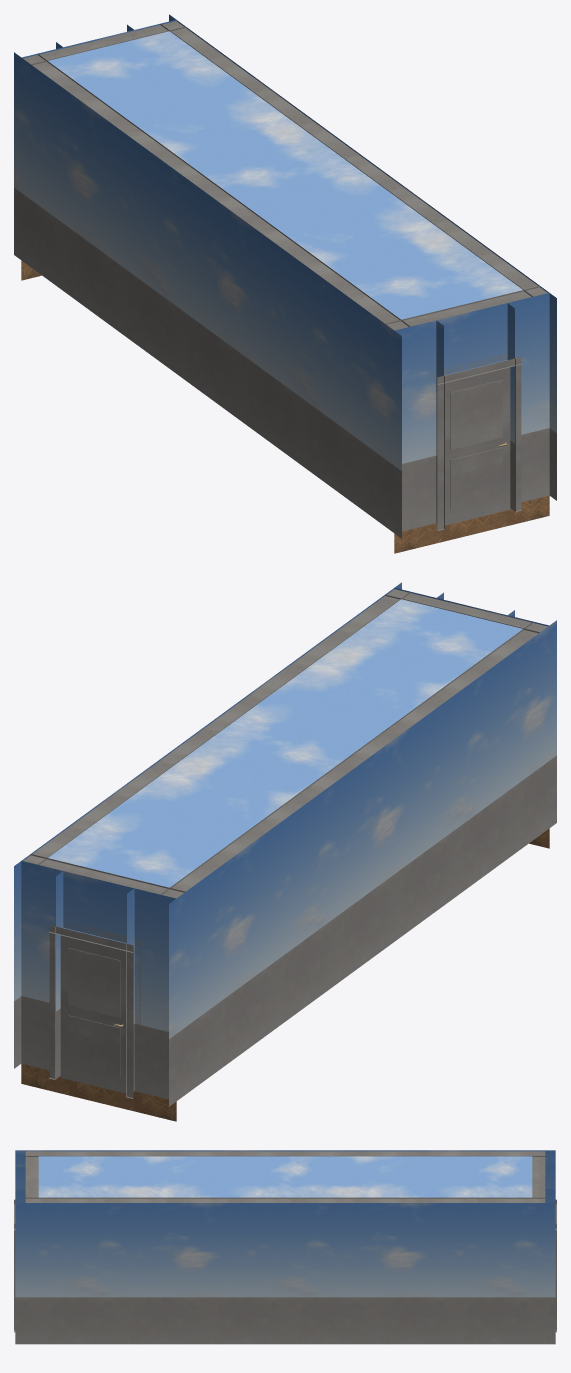
Rendered from sky_hall.glb.
3 views of the same model, one above another, from view 1: azimuth 30°, elevation 25°; view 2: azimuth 150°, elevation 25°; view 3: azimuth 270°, elevation 25° (orthographic). The views are drawn at different scales.
Visible parts, largest first — view 1: sky_hall_Sky_Mural, sky_hall_Kit_Sky_Emit, sky_hall_Sky_Panel, sky_hall_Sky_Trim, Leaf_entry_Sky_Trim, Leaf_entry_Sky_Door, sky_hall_Sky_Floor; view 2: sky_hall_Sky_Mural, sky_hall_Kit_Sky_Emit, sky_hall_Sky_Panel, sky_hall_Sky_Trim, Leaf_exit_Sky_Trim, Leaf_exit_Sky_Door, sky_hall_Sky_Floor; view 3: sky_hall_Sky_Mural, sky_hall_Sky_Panel, sky_hall_Kit_Sky_Emit, sky_hall_Sky_Trim.
Part boxes in pixels (box(x1,y1,x2,y2)): sky_hall_Sky_Mural: box(14, 14, 556, 470); sky_hall_Kit_Sky_Emit: box(48, 31, 522, 319); sky_hall_Sky_Panel: box(14, 187, 556, 538); sky_hall_Sky_Trim: box(23, 21, 547, 530); Leaf_entry_Sky_Trim: box(450, 380, 502, 510); Leaf_entry_Sky_Door: box(445, 367, 510, 525); sky_hall_Sky_Floor: box(21, 260, 549, 553); sky_hall_Sky_Mural: box(14, 582, 556, 1038); sky_hall_Kit_Sky_Emit: box(48, 599, 522, 887); sky_hall_Sky_Panel: box(14, 755, 556, 1106); sky_hall_Sky_Trim: box(23, 589, 547, 1098); Leaf_exit_Sky_Trim: box(68, 948, 120, 1078); Leaf_exit_Sky_Door: box(60, 935, 125, 1093); sky_hall_Sky_Floor: box(21, 828, 549, 1121); sky_hall_Sky_Mural: box(15, 1150, 555, 1297); sky_hall_Sky_Panel: box(15, 1297, 555, 1344); sky_hall_Kit_Sky_Emit: box(38, 1156, 532, 1197); sky_hall_Sky_Trim: box(14, 1151, 556, 1332).
Bounding box in the file's own units: 2.4 × 3.3 × 10.45.
8 materials, 7 textured.
